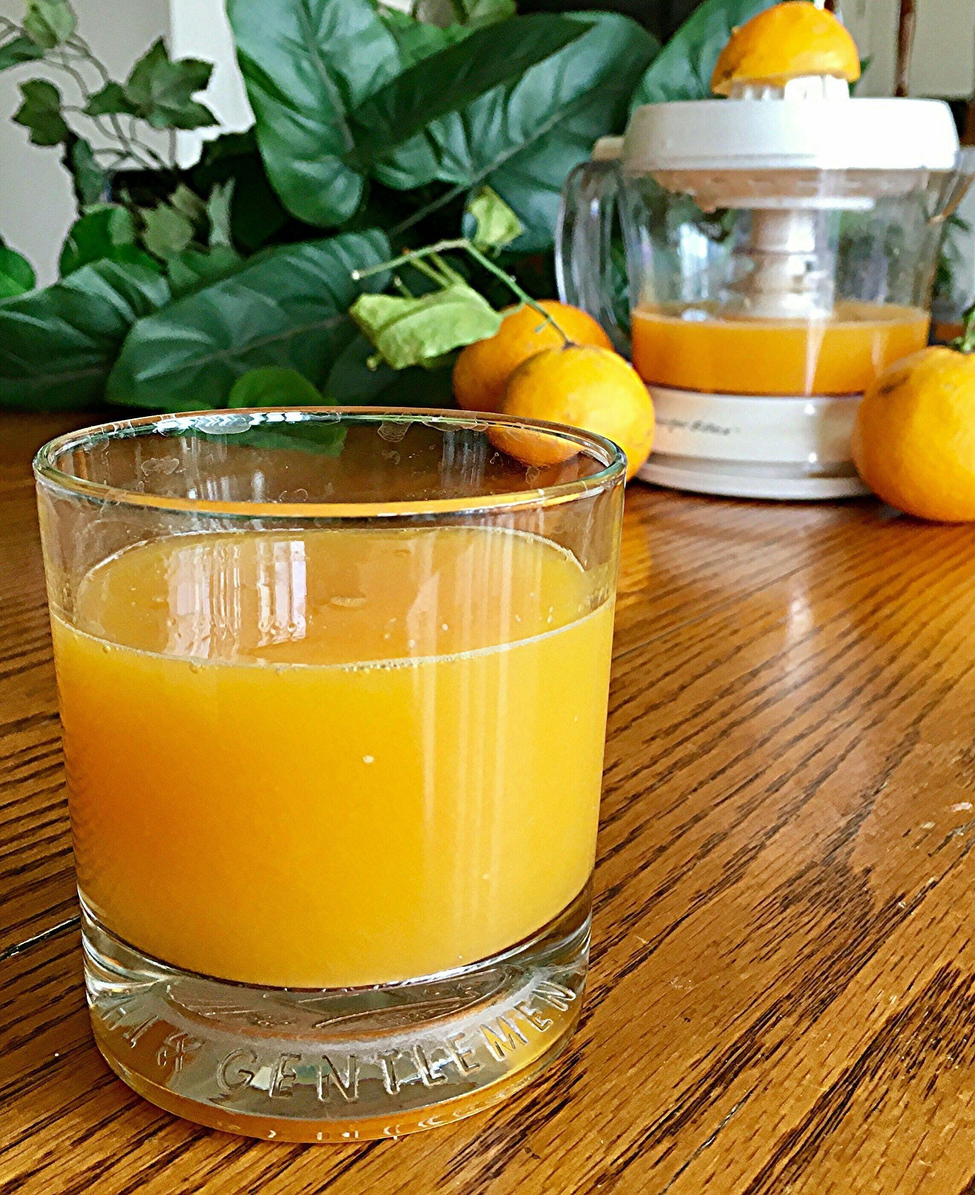glass-normal: (37, 393, 638, 1145)
